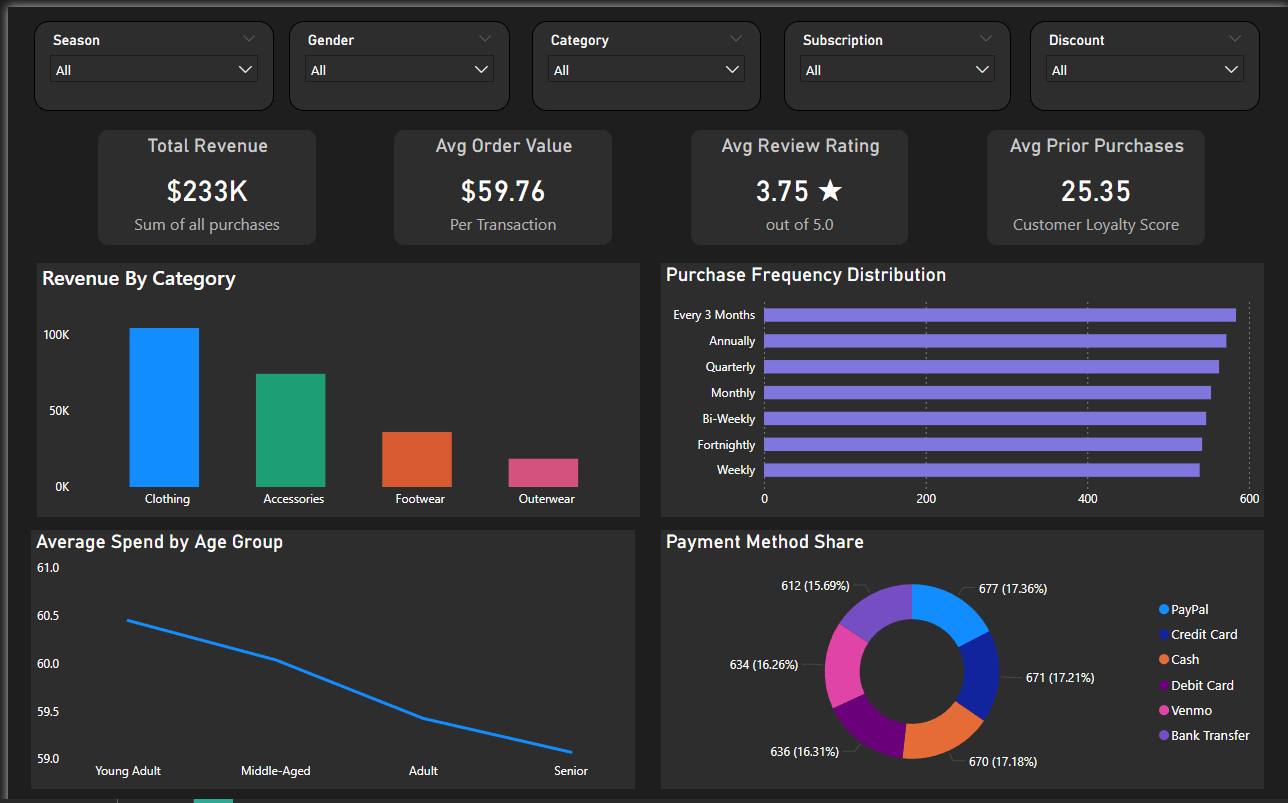

The page's visual inventory and layout, read from the dashboard file:
{"tool":"powerbi","page":{"name":"Page 1","canvas":[1280,800],"ordinal":0},"visuals":[{"type":"slicer","fields":{"Values":["public customer.season"]},"box":[25.6,14.4,240,90],"z":0},{"type":"slicer","fields":{"Values":["public customer.gender"]},"box":[281.1,14.4,221.1,90],"z":1000},{"type":"slicer","fields":{"Values":["public customer.category"]},"box":[524.4,14.4,228.9,90],"z":2000},{"type":"slicer","fields":{"Values":["public customer.subscription_status"]},"box":[775.6,14.4,227.8,90],"z":3000},{"type":"slicer","fields":{"Values":["public customer.discount_applied"]},"box":[1022.2,14.4,230,90],"z":4000},{"type":"clusteredColumnChart","title":"Revenue By Category","fields":{"Category":["public customer.category"],"Y":["Sum(public customer.purchase_amount)"]},"box":[29,256,603,254],"z":5000},{"type":"clusteredBarChart","title":"Purchase Frequency Distribution","fields":{"Category":["public customer.frequency_of_purchases"],"Y":["CountNonNull(public customer.customer_id)"]},"box":[653,256,603,254],"z":6000},{"type":"lineChart","title":"Average Spend by Age Group","fields":{"Y":["Avg(public customer.purchase_amount)"],"Category":["public customer.age_group"]},"box":[23.3,523.3,603.3,258.9],"z":7000},{"type":"donutChart","title":"Payment Method Share","fields":{"Category":["public customer.payment_method"],"Y":["CountNonNull(public customer.customer_id)"]},"box":[653,523,603,259],"z":8000},{"type":"card","title":"Total Revenue","fields":{"Values":["Sum(public customer.purchase_amount)"]},"box":[90,123.3,217.8,114.4],"z":9000},{"type":"card","title":"Avg Order Value","fields":{"Values":["Avg(public customer.purchase_amount)"]},"box":[386.3,123.3,217.8,114.4],"z":10000},{"type":"card","title":"Avg Review Rating","fields":{"Values":["public customer.Rating Display"]},"box":[682.6,123.3,217.8,114.4],"z":11000},{"type":"card","title":"Avg Prior Purchases","fields":{"Values":["Avg(public customer.previous_purchases)"]},"box":[978.9,123.3,217.8,114.4],"z":12000}]}

Visuals, with their boxes in screenshot pixels (x1, y1, x2, y2), scaled from the page's 1280x800 canvas onto the 1288x803 screenshot:
slicer - public customer.season: region(26, 14, 267, 105)
slicer - public customer.gender: region(283, 14, 505, 105)
slicer - public customer.category: region(528, 14, 758, 105)
slicer - public customer.subscription_status: region(780, 14, 1010, 105)
slicer - public customer.discount_applied: region(1029, 14, 1260, 105)
"Revenue By Category" clusteredColumnChart: region(29, 257, 636, 512)
"Purchase Frequency Distribution" clusteredBarChart: region(657, 257, 1264, 512)
"Average Spend by Age Group" lineChart: region(23, 525, 631, 785)
"Payment Method Share" donutChart: region(657, 525, 1264, 785)
"Total Revenue" card: region(91, 124, 310, 239)
"Avg Order Value" card: region(389, 124, 608, 239)
"Avg Review Rating" card: region(687, 124, 906, 239)
"Avg Prior Purchases" card: region(985, 124, 1204, 239)
